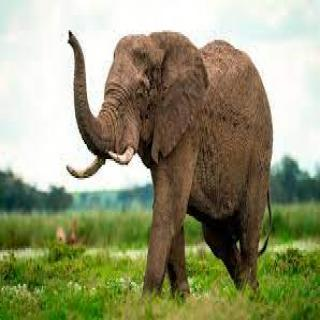Elephant: (59, 15, 280, 309)
